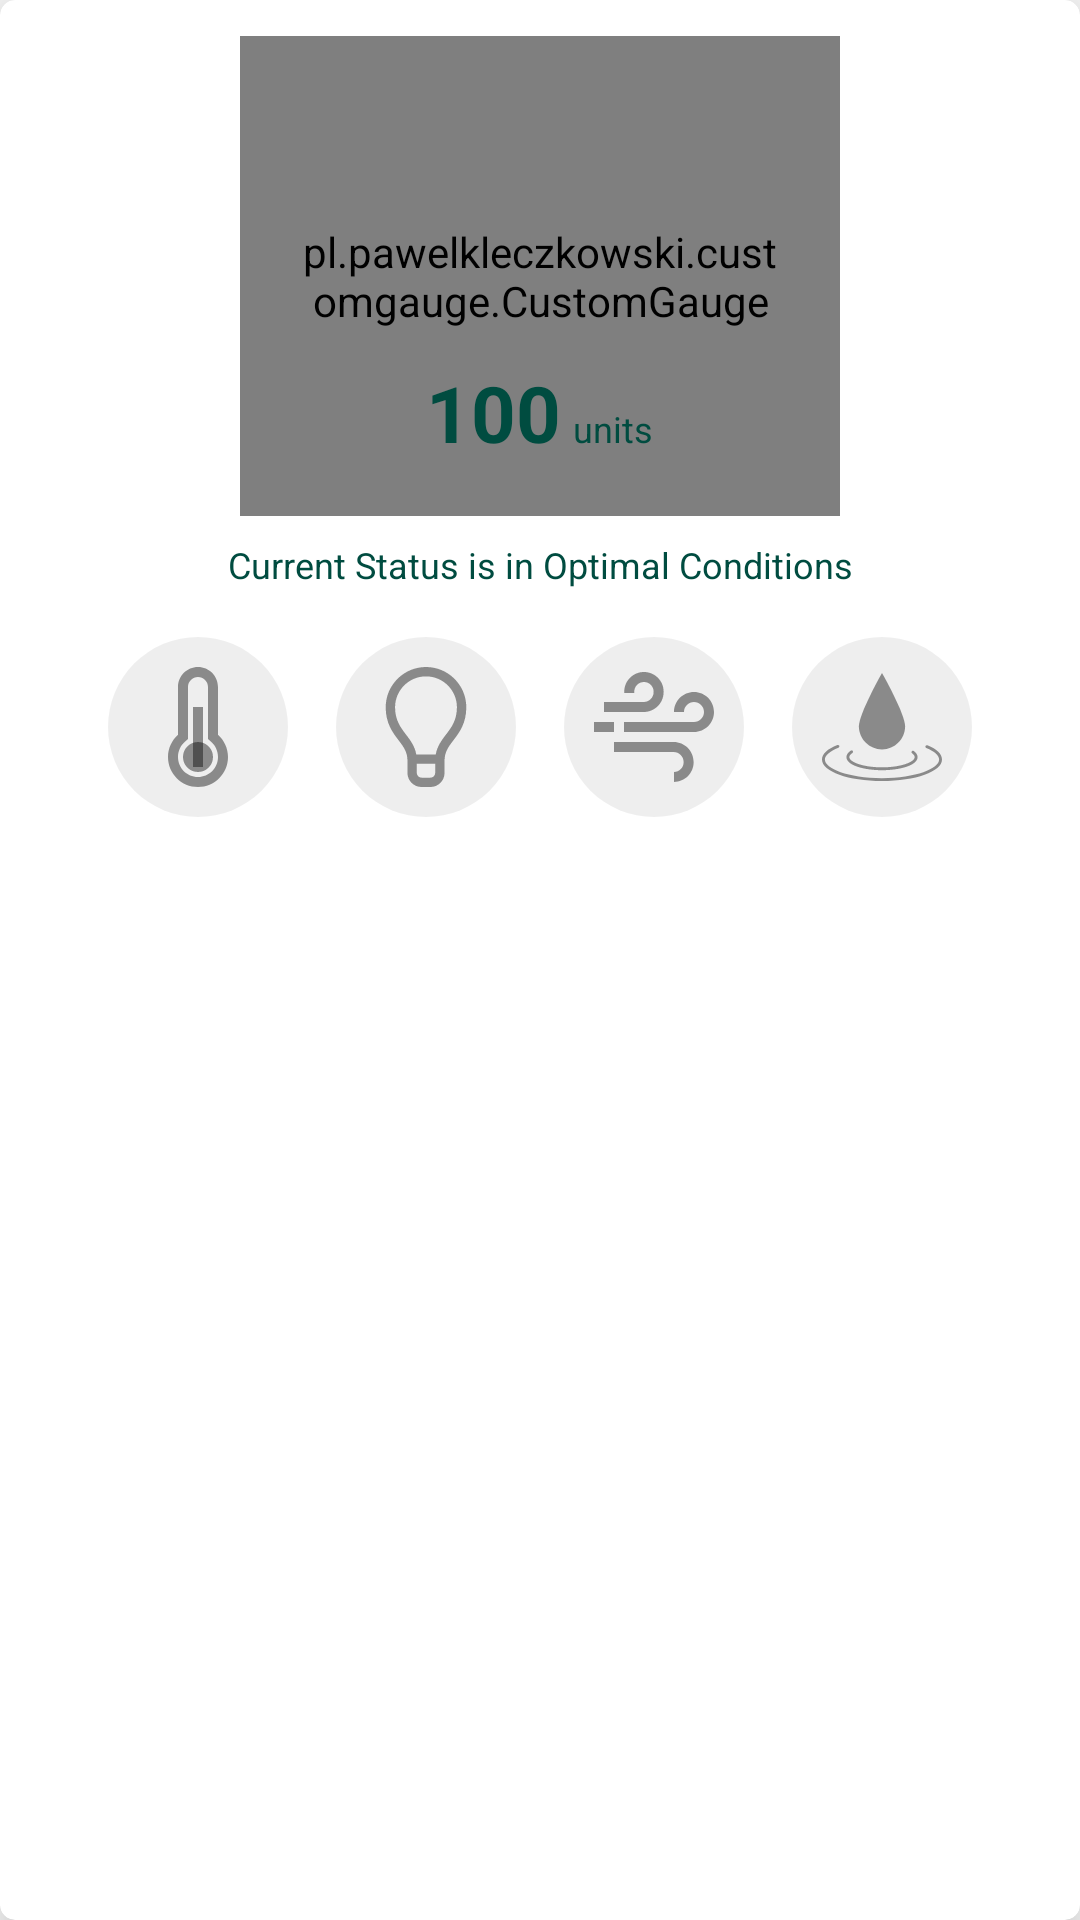

Icon click points for this 1080 x 1920 phone screenshot, format (x,y):
checkbox temperature: (198,727)
checkbox water: (882,727)
